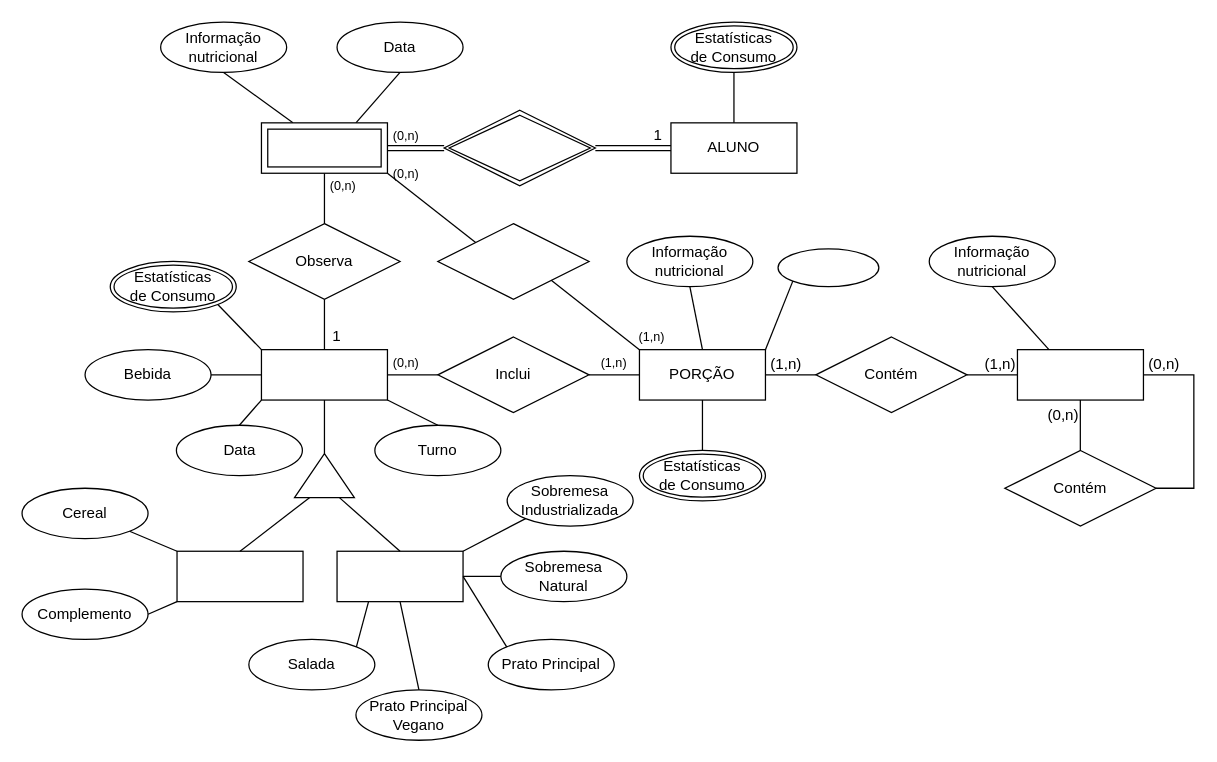
Image size: 1217x762. Some labels were removed from this diagram. The box of each missing label's shape, as (x1, y1, x2, y2) in pixels:
Bandeja: (260, 122, 387, 173)
Café da Manhã: (176, 550, 303, 602)
CARDÁPIO: (260, 348, 387, 400)
Escolhe: (437, 222, 589, 299)
INGREDIENTE: (1016, 348, 1143, 400)
Monta: (443, 109, 595, 186)
Refeição: (336, 550, 463, 602)
É vegano?: (777, 248, 879, 287)
